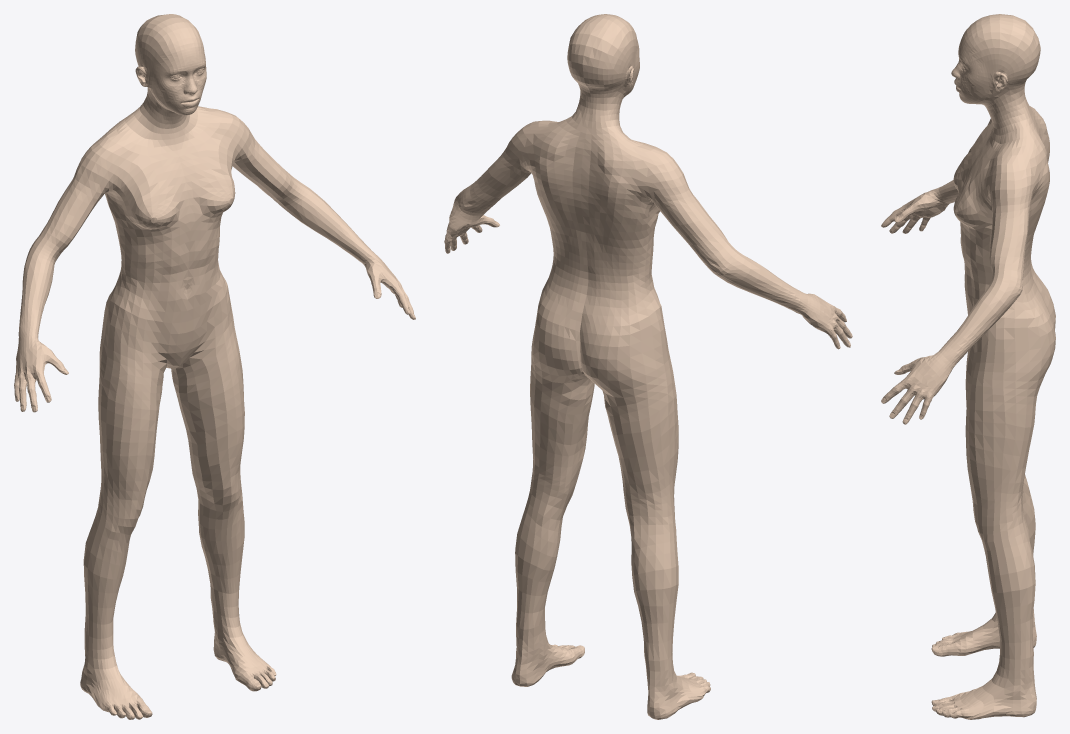
The model's file is female-young-lean-high.glb.
3 renders of one model, left to right at view 1: azimuth 30°, elevation 25°; view 2: azimuth 150°, elevation 25°; view 3: azimuth 270°, elevation 25°, orthographic.
Visible parts, largest first — view 1: world; view 2: world; view 3: world.
Part boxes in pixels (x1,y1,x2,y2): world: (14,14,415,719); world: (444,14,852,719); world: (881,14,1055,719).
Size of the model in its own units: 1.1 by 1.78 by 0.4241.
